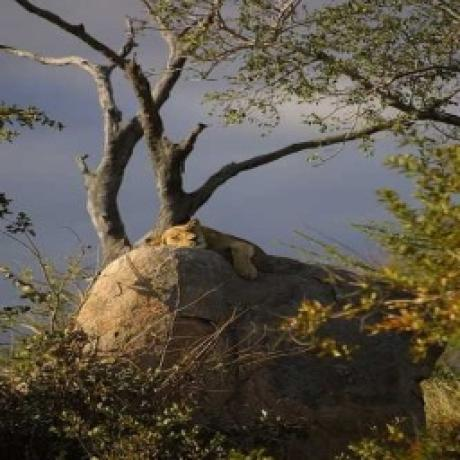Lion: (144, 216, 266, 278)
